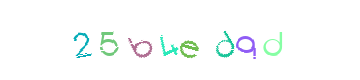2: (101, 0, 181, 80)
4: (130, 0, 210, 80)
5: (110, 0, 190, 80)
B: (111, 0, 191, 80)
D: (140, 0, 220, 80), (207, 0, 287, 80)
E: (139, 0, 219, 80)
Q: (176, 0, 256, 80)
